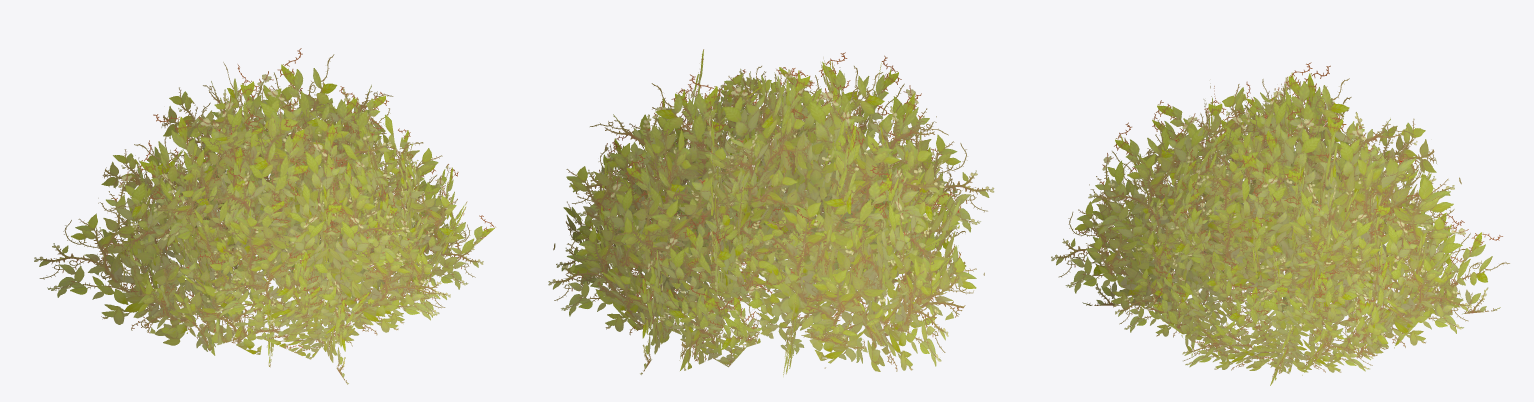
File: SM_cao02_ZYF.fbx
The picture shows the model from 3 angles, left to right: view 1: azimuth 30°, elevation 25°; view 2: azimuth 150°, elevation 25°; view 3: azimuth 270°, elevation 25°; orthographic projection. The views are drawn at different scales.
Visible parts, largest first — view 1: SM_cao02_ZYF.mo; view 2: SM_cao02_ZYF.mo; view 3: SM_cao02_ZYF.mo.
Part boxes in pixels (x1,y1,x2,y2): SM_cao02_ZYF.mo: (34,48,495,384); SM_cao02_ZYF.mo: (548,49,994,376); SM_cao02_ZYF.mo: (1051,62,1509,385).
Size of the model in its own units: 4.67 by 3.54 by 4.75.
